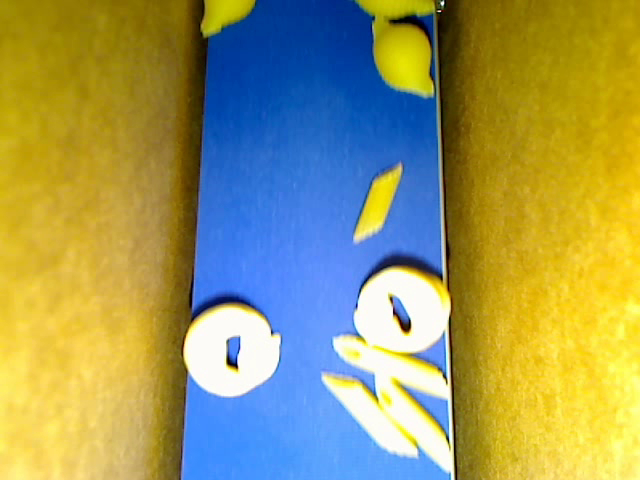penne: (331, 332, 452, 401), (321, 373, 418, 458), (374, 369, 453, 473), (352, 162, 403, 244)
shell: (372, 15, 435, 99), (201, 1, 254, 37), (354, 1, 436, 21)
tortellini: (181, 302, 282, 397), (352, 265, 449, 356)
